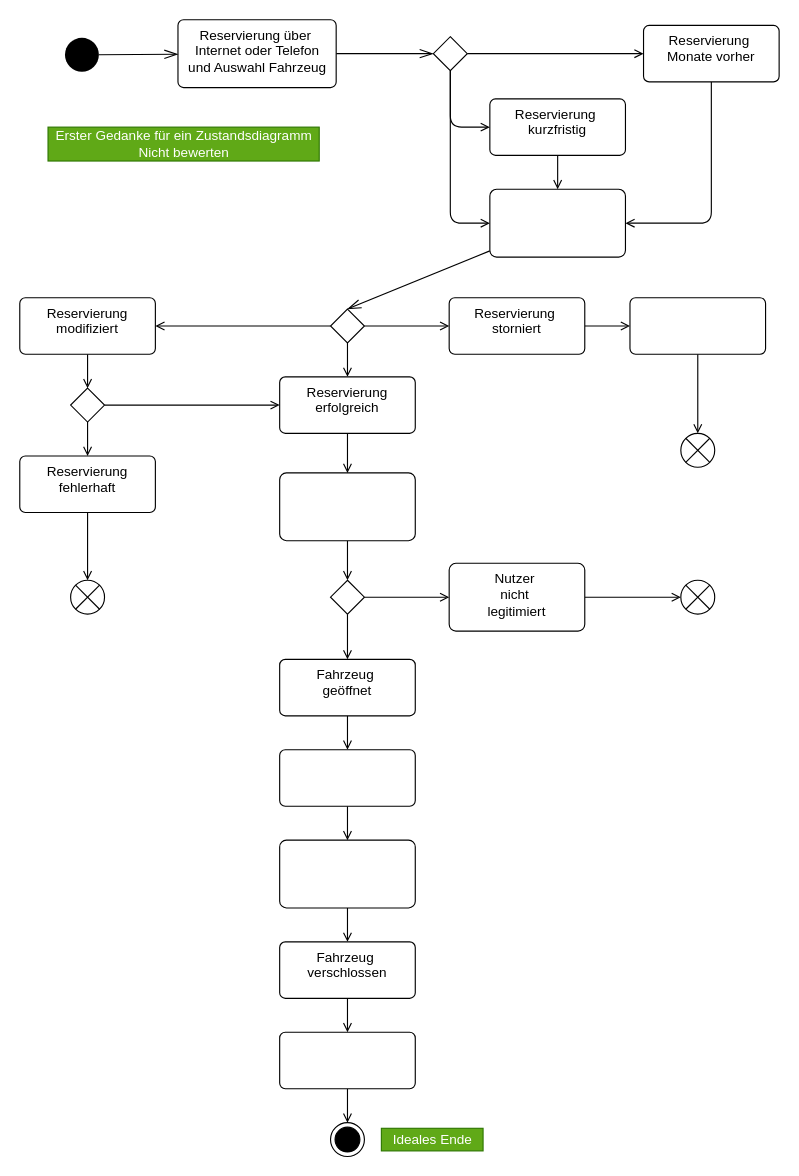
Image size: 799x1176. Some labels were removed from this diagram. The shapes that lost their labels are listed below. From the top down, each one's centre as x and y in pixels, then its label:
(x=557, y=222): Reservierungs- zeitraum angegeben
(x=697, y=325): Reservierung abgebrochen
(x=347, y=506): Nutzerlegitimierung mit richtiger Reservierung
(x=347, y=777): Fahrzeug wird gefahren
(x=347, y=873): Fahrzeug an definierten Parkplatz abgestellt
(x=347, y=1060): Fahrzeugreservierung abgeschlossen
